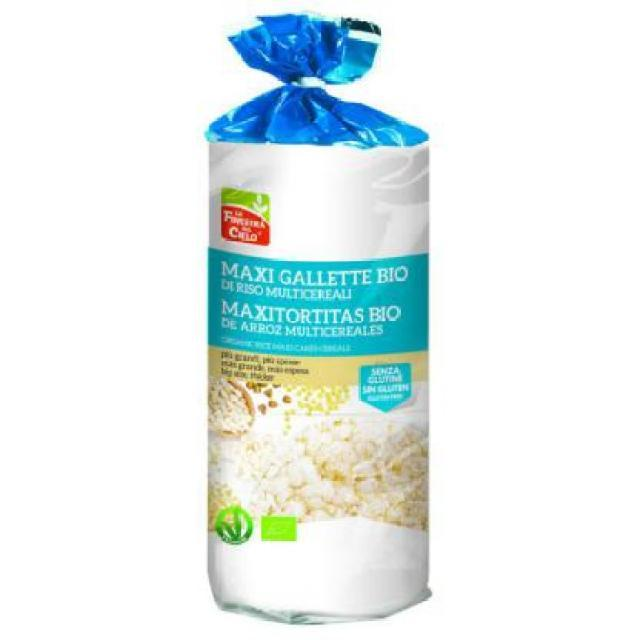Gallette di riso: (202, 16, 440, 624)
